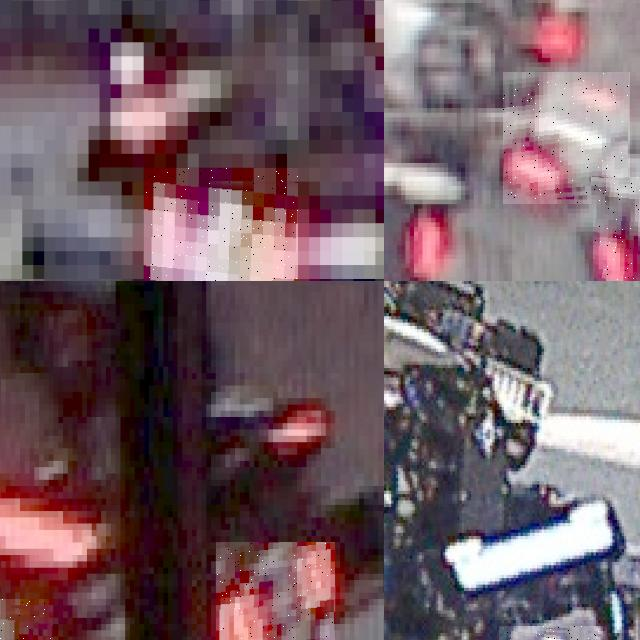R1: (504, 72, 632, 204), (384, 172, 456, 281), (593, 176, 640, 281)
R3: (215, 542, 335, 640)
R4: (143, 167, 298, 281)
